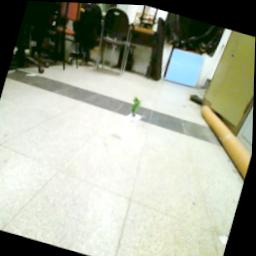herb: (129, 96, 145, 120)
